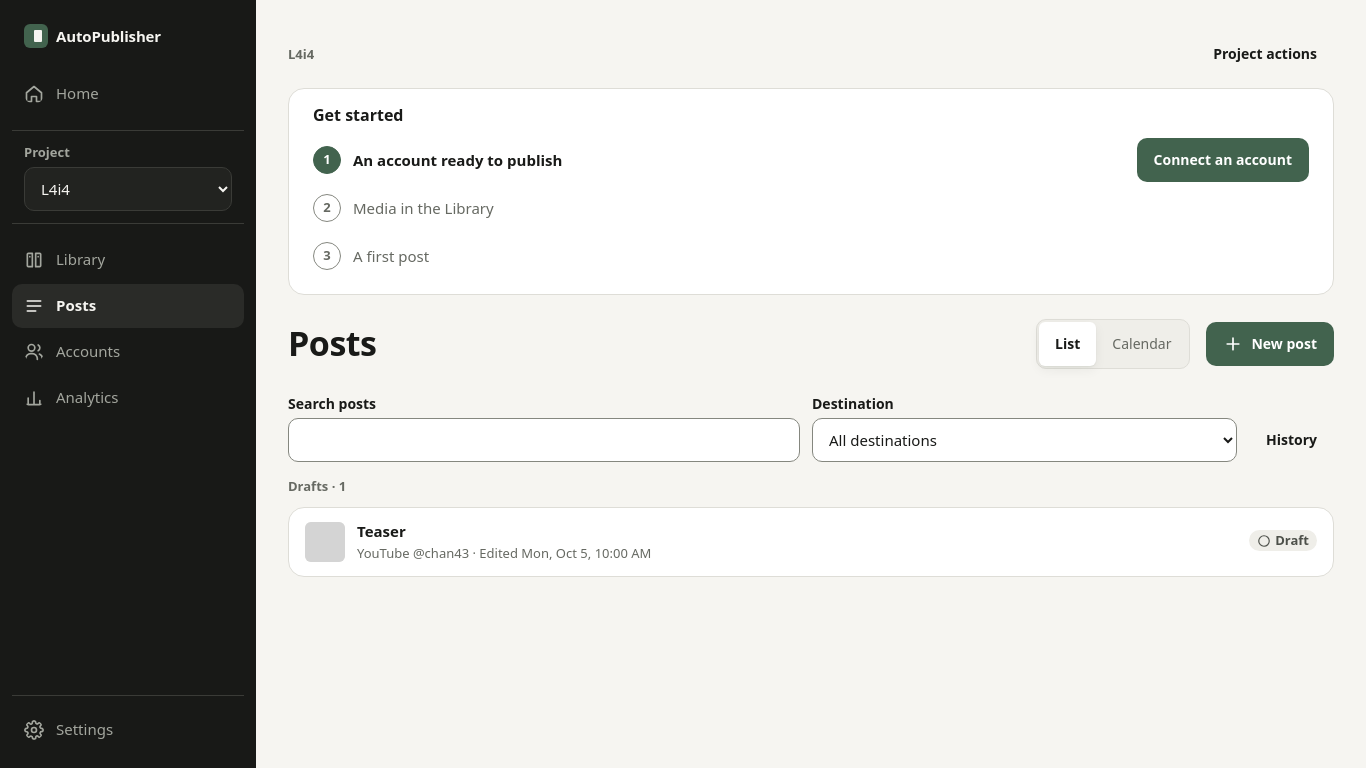
Test: New post offers Publish media… and Text post
Expected: the heading "Posts" is shown, [288,324,376,363]
Click the button "New post" at (1270, 344), box [1206,322,1334,366]
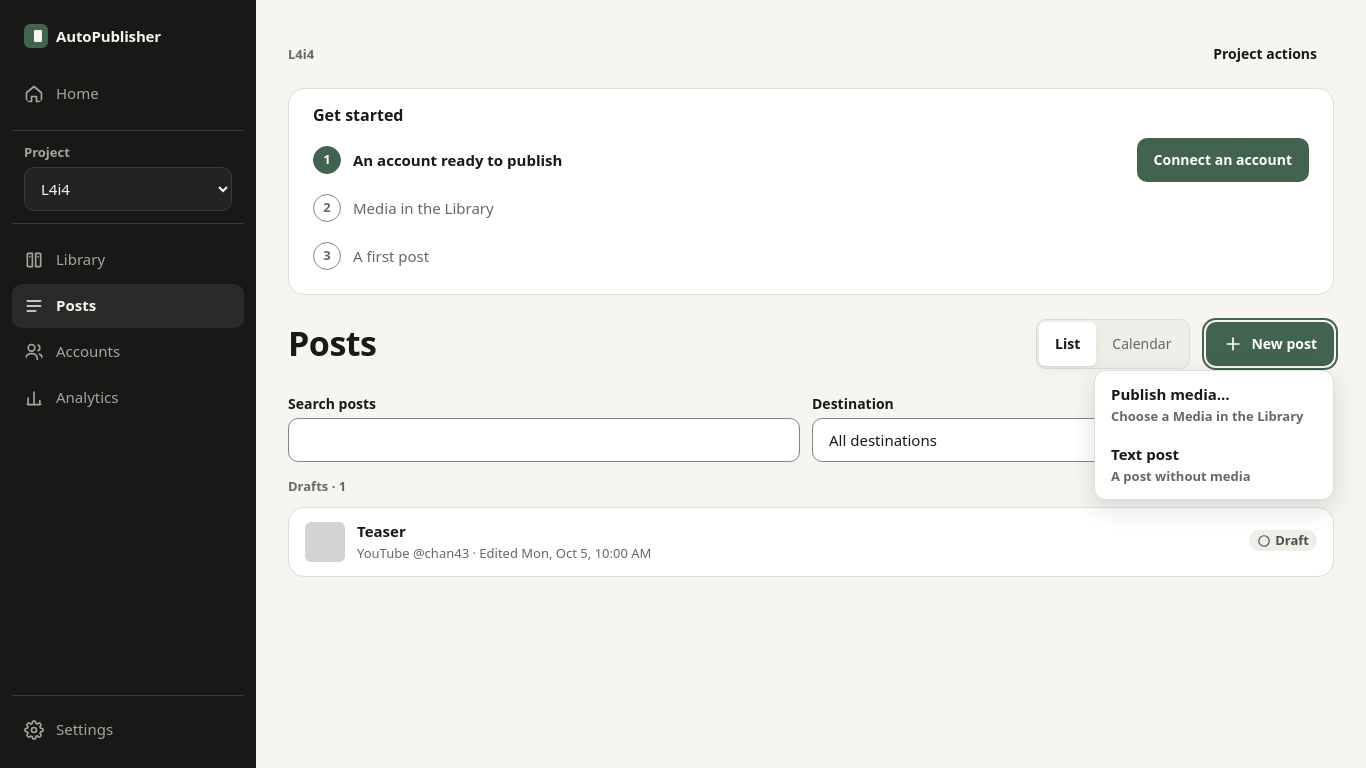
Click the link "Text post A post without media" at (1181, 465), box [1111,444,1250,485]
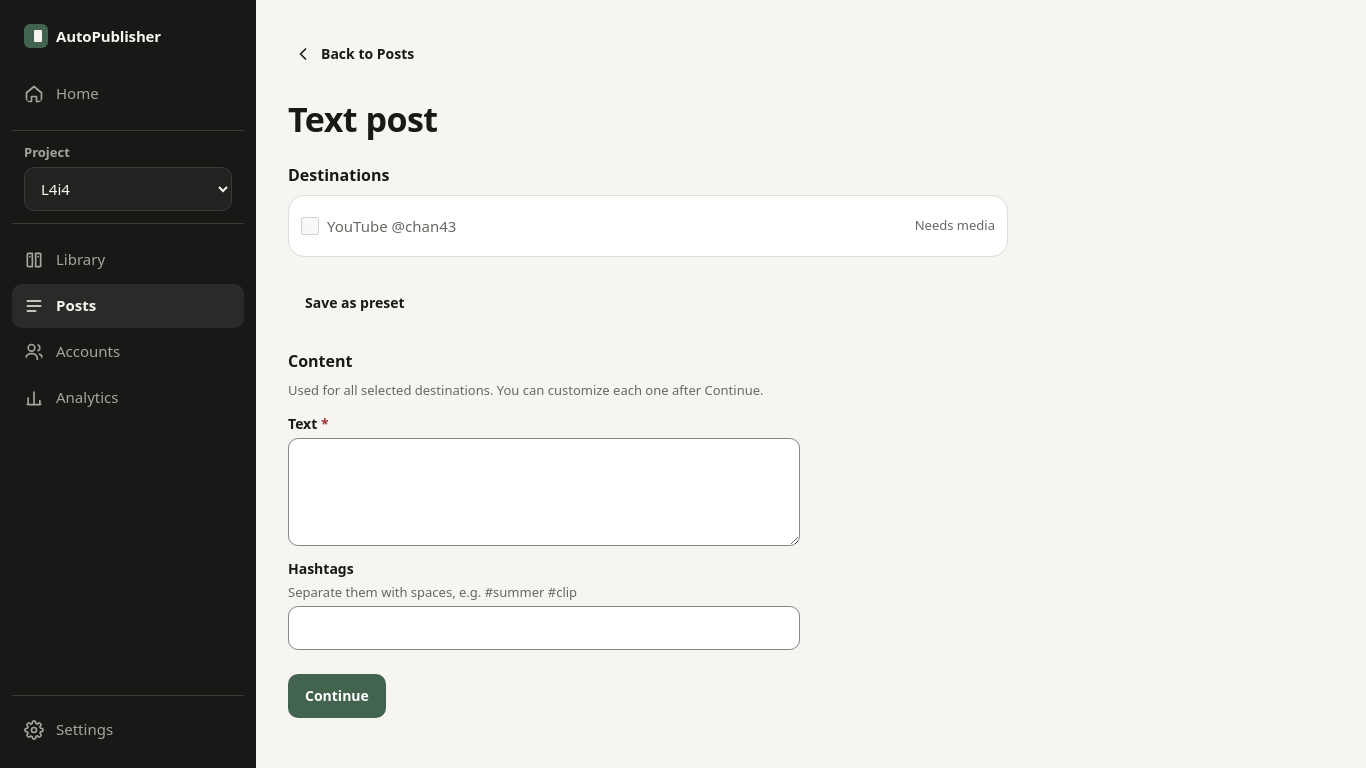
Now the heading "Text post" is shown, box [288,96,438,142]
